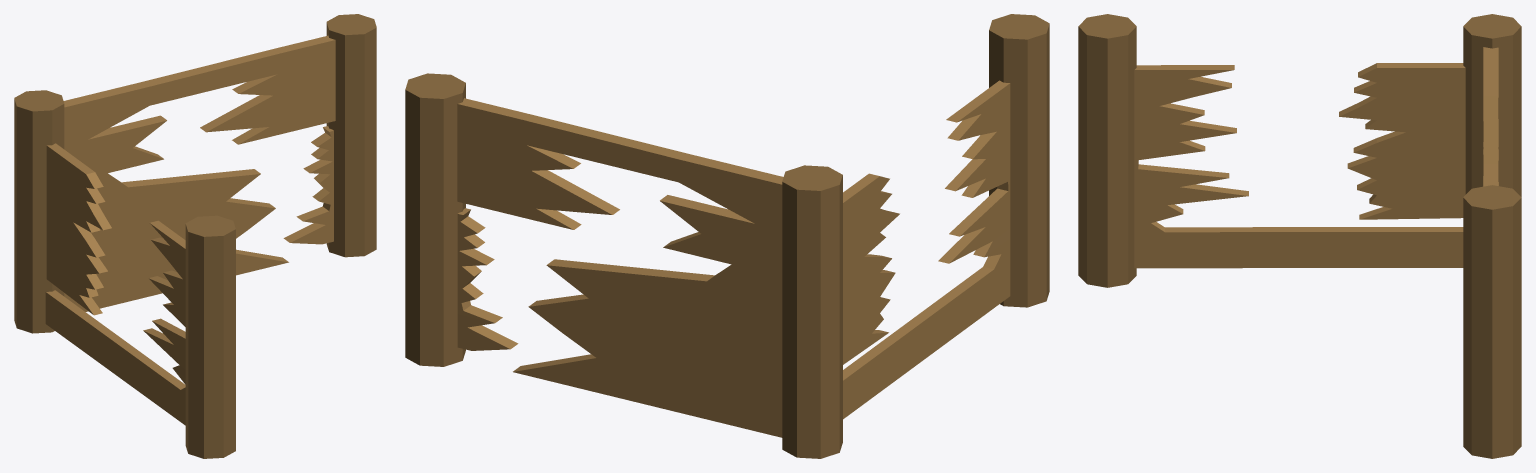
File: RuinedHouseStuff4.fbx
3 views of the same model, side by side, from view 1: azimuth 30°, elevation 25°; view 2: azimuth 150°, elevation 25°; view 3: azimuth 270°, elevation 25° (orthographic). The views are drawn at different scales.
Parts seen in each view (by area): view 1: Cube.046; view 2: Cube.046; view 3: Cube.046.
Part boxes in pixels (x1,y1,x2,y2): Cube.046: [14, 14, 376, 458]; Cube.046: [405, 14, 1049, 458]; Cube.046: [1078, 14, 1521, 458].
Size of the model in its own units: 362 by 215 by 346.
